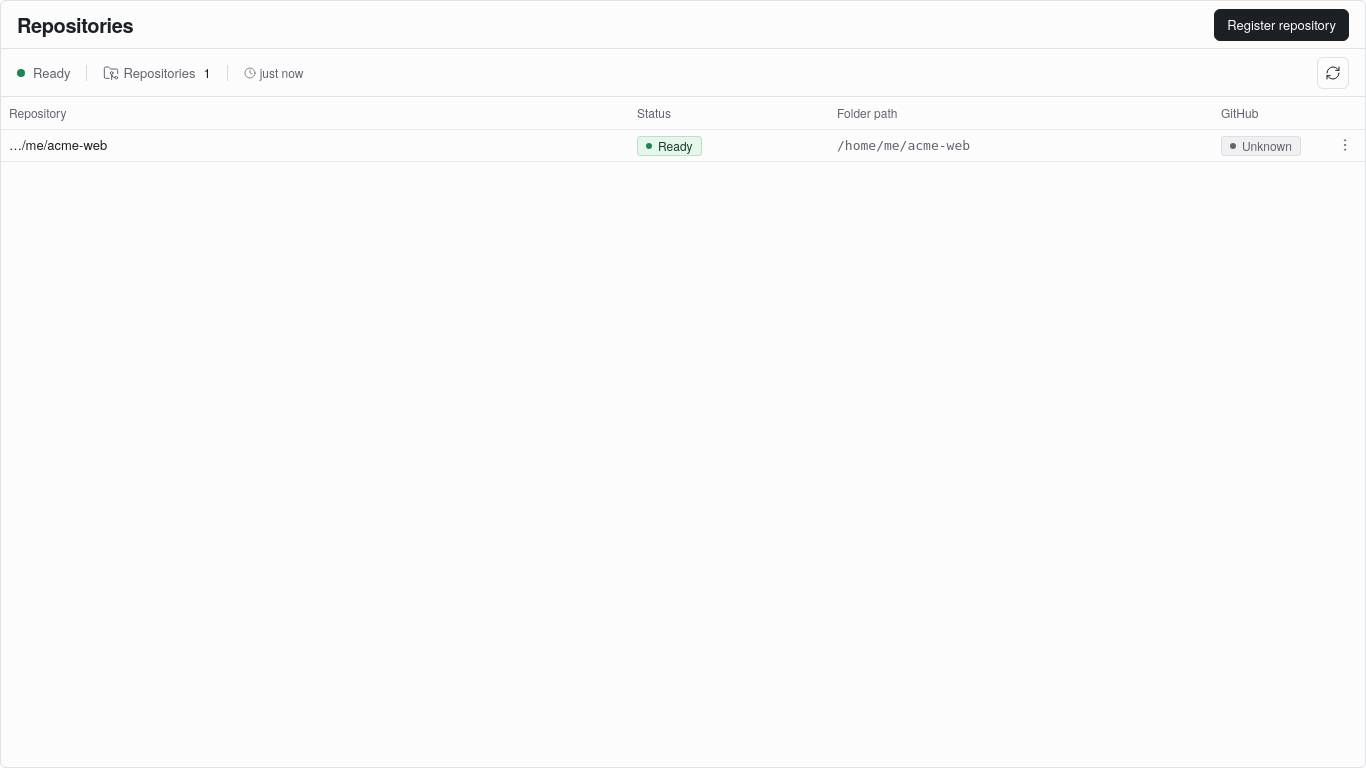
Test case: Repositories — GitHub column › shows a failed origin read as its own Unknown badge, its cause to the pointer
Expected: the cell "Unknown" is shown, top-left (1213, 129), bottom-right (1325, 161)
Hover over the text "Unknown" at (1261, 146), box top-left (1221, 136), bottom-right (1301, 156)
Wait 400 ms
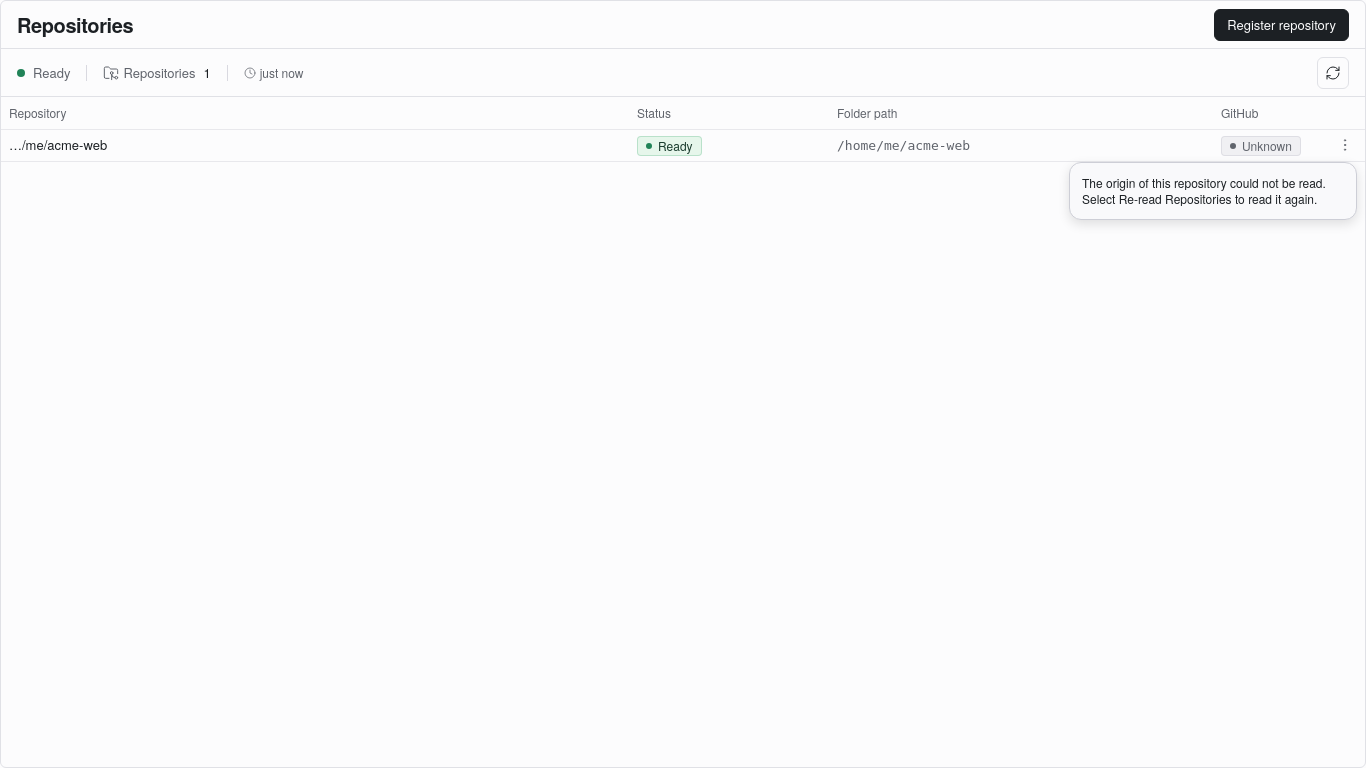
Expected: the text "The origin of this repository could not be read. Select Re-read Repositories to read it again." is shown, top-left (1082, 174), bottom-right (1326, 207)
